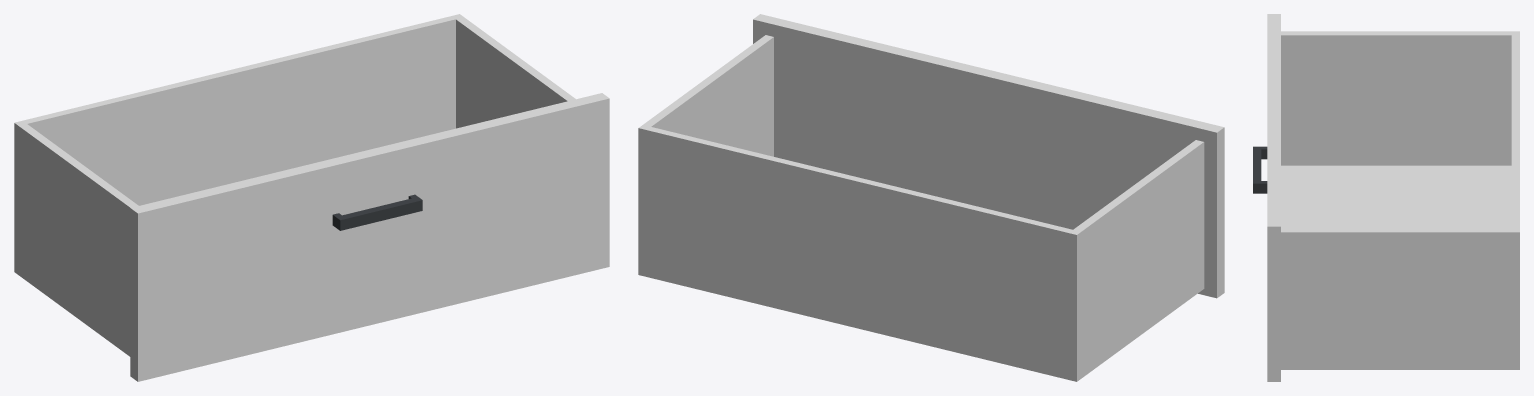
File: BathroomDoor_C1_08.fbx
3 views of the same model, side by side, from view 1: azimuth 30°, elevation 25°; view 2: azimuth 150°, elevation 25°; view 3: azimuth 270°, elevation 25° (orthographic). The views are drawn at different scales.
Parts seen in each view (by area): view 1: BathroomDoor_C1_08; view 2: BathroomDoor_C1_08; view 3: BathroomDoor_C1_08.
Part boxes in pixels (box(x1,y1,x2,y2)): BathroomDoor_C1_08: box(14, 14, 609, 381); BathroomDoor_C1_08: box(638, 14, 1224, 381); BathroomDoor_C1_08: box(1253, 14, 1519, 381).
Size of the model in its own units: 90 by 30.7 by 47.76.
